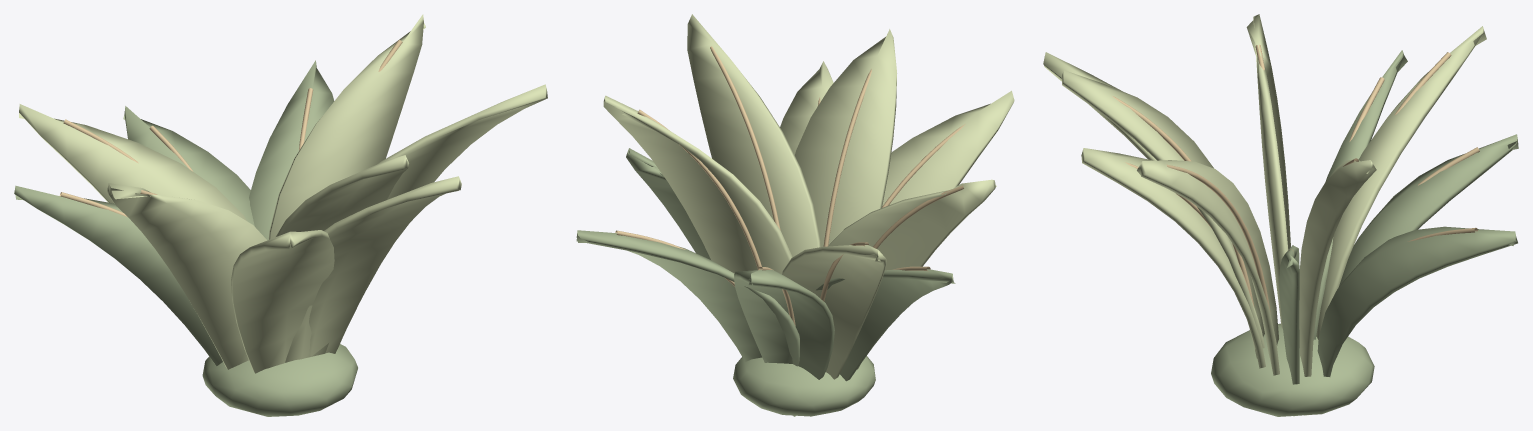
File: bio_mist_leaf_16_far.glb
3 views of the same model, side by side, from view 1: azimuth 30°, elevation 25°; view 2: azimuth 150°, elevation 25°; view 3: azimuth 270°, elevation 25° (orthographic). The views are drawn at different scales.
Parts seen in each view (by area): view 1: Cupped condensate leaf.004, Cupped condensate leaf.008, Cupped condensate leaf.007, Cupped condensate leaf.010, Cupped condensate leaf.001, Root rosette, Cupped condensate leaf.009, Cupped condensate leaf.002, Cupped condensate leaf.003, Cupped condensate leaf.005, Cupped condensate leaf.006; view 2: Cupped condensate leaf.002, Cupped condensate leaf.005, Cupped condensate leaf.008, Cupped condensate leaf.003, Cupped condensate leaf.007, Cupped condensate leaf.004, Cupped condensate leaf.006, Cupped condensate leaf.001, Root rosette, Cupped condensate leaf.009, Cupped condensate leaf, Cupped condensate leaf.010 (+5 smaller); view 3: Root rosette, Cupped condensate leaf.003, Cupped condensate leaf.001, Cupped condensate leaf.005, Cupped condensate leaf.006, Cupped condensate leaf.002, Cupped condensate leaf.008, Cupped condensate leaf.010, Cupped condensate leaf.004, Cupped condensate leaf.009, Cupped condensate leaf, Cupped condensate leaf.007 (+2 smaller).
Part boxes in pixels (box(x1,y1,x2,y2)): Cupped condensate leaf.004: box(107, 183, 267, 369); Cupped condensate leaf.008: box(268, 14, 425, 239); Cupped condensate leaf.007: box(231, 230, 334, 373); Cupped condensate leaf.010: box(309, 176, 461, 356); Cupped condensate leaf.001: box(19, 104, 246, 220); Root rosette: box(202, 344, 357, 416); Cupped condensate leaf.009: box(14, 185, 222, 365); Cupped condensate leaf.002: box(276, 155, 408, 362); Cupped condensate leaf.003: box(249, 60, 334, 240); Cupped condensate leaf.005: box(337, 84, 547, 348); Cupped condensate leaf.006: box(123, 106, 254, 225); Cupped condensate leaf.002: box(795, 29, 896, 246); Cupped condensate leaf.005: box(687, 14, 820, 256); Cupped condensate leaf.008: box(603, 95, 792, 274); Cupped condensate leaf.003: box(576, 230, 799, 366); Cupped condensate leaf.007: box(882, 90, 1014, 205); Cupped condensate leaf.004: box(828, 179, 996, 369); Cupped condensate leaf.006: box(734, 269, 834, 416); Cupped condensate leaf.001: box(782, 245, 886, 379); Root rosette: box(733, 356, 875, 416); Cupped condensate leaf.009: box(816, 269, 955, 381); Cupped condensate leaf: box(626, 148, 710, 259); Cupped condensate leaf.010: box(780, 61, 833, 154); Root rosette: box(1211, 323, 1374, 416); Cupped condensate leaf.003: box(1317, 226, 1517, 376); Cupped condensate leaf.001: box(1316, 26, 1486, 339); Cupped condensate leaf.005: box(1137, 160, 1279, 375); Cupped condensate leaf.006: box(1337, 134, 1518, 356); Cupped condensate leaf.002: box(1062, 70, 1260, 358); Cupped condensate leaf.008: box(1299, 160, 1376, 415); Cupped condensate leaf.010: box(1081, 148, 1265, 368); Cupped condensate leaf.004: box(1246, 14, 1290, 328); Cupped condensate leaf.009: box(1313, 50, 1407, 339); Cupped condensate leaf: box(1279, 245, 1299, 416); Cupped condensate leaf.007: box(1043, 52, 1264, 348).
Size of the model in its own units: 1.83 by 1.38 by 1.74.
